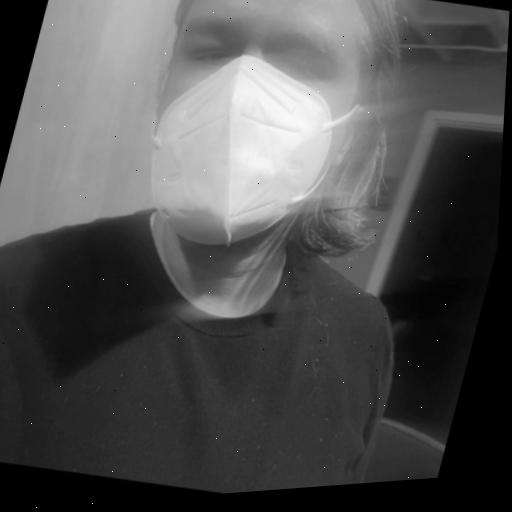mask: (104, 0, 436, 294)
